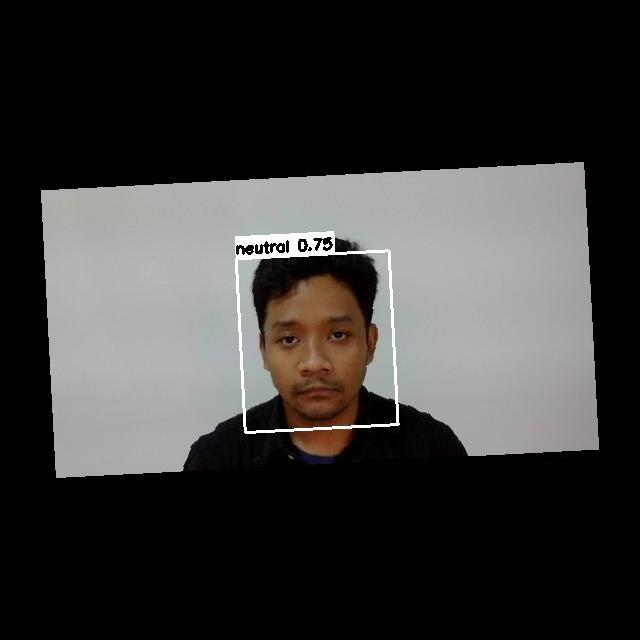Natural: (265, 313, 373, 404)
